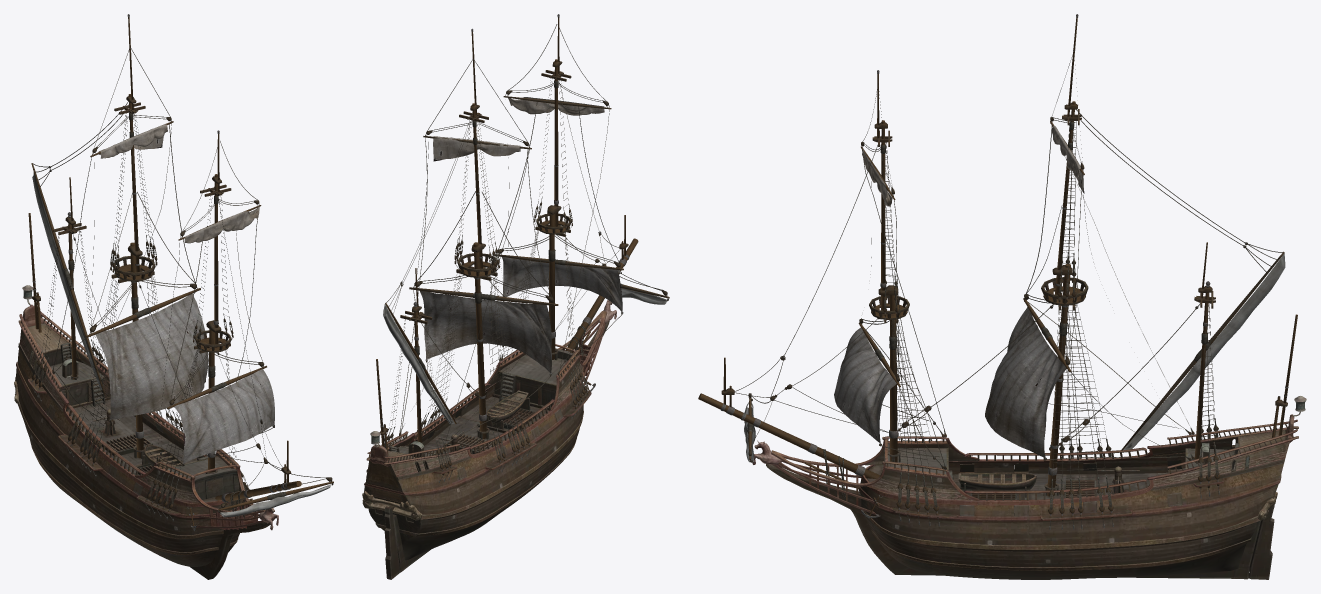
The model's file is navire3d.glb.
3 renders of one model, left to right at view 1: azimuth 30°, elevation 25°; view 2: azimuth 150°, elevation 25°; view 3: azimuth 270°, elevation 25°, orthographic. The views are drawn at different scales.
Parts seen in each view (by area): view 1: dutch_ship_medium_hull_dutch_ship_medium_hull_0, dutch_ship_medium_rigging_dutch_ship_medium_rigging_0, dutch_ship_medium_sails_dutch_ship_medium_sails_0; view 2: dutch_ship_medium_hull_dutch_ship_medium_hull_0, dutch_ship_medium_rigging_dutch_ship_medium_rigging_0, dutch_ship_medium_sails_dutch_ship_medium_sails_0; view 3: dutch_ship_medium_hull_dutch_ship_medium_hull_0, dutch_ship_medium_rigging_dutch_ship_medium_rigging_0, dutch_ship_medium_sails_dutch_ship_medium_sails_0.
Boxes of the visible parts, box(x1,y1,x2,y2) form: dutch_ship_medium_hull_dutch_ship_medium_hull_0: box(14, 285, 278, 579); dutch_ship_medium_rigging_dutch_ship_medium_rigging_0: box(28, 14, 333, 531); dutch_ship_medium_sails_dutch_ship_medium_sails_0: box(95, 124, 274, 462); dutch_ship_medium_hull_dutch_ship_medium_hull_0: box(362, 300, 616, 579); dutch_ship_medium_rigging_dutch_ship_medium_rigging_0: box(376, 14, 669, 482); dutch_ship_medium_sails_dutch_ship_medium_sails_0: box(420, 97, 622, 372); dutch_ship_medium_hull_dutch_ship_medium_hull_0: box(752, 396, 1306, 579); dutch_ship_medium_rigging_dutch_ship_medium_rigging_0: box(698, 14, 1297, 529); dutch_ship_medium_sails_dutch_ship_medium_sails_0: box(834, 126, 1084, 457).
Size of the model in its own units: 6.81 by 24.66 by 24.07.
Materials: 3 (3 with a texture image).
